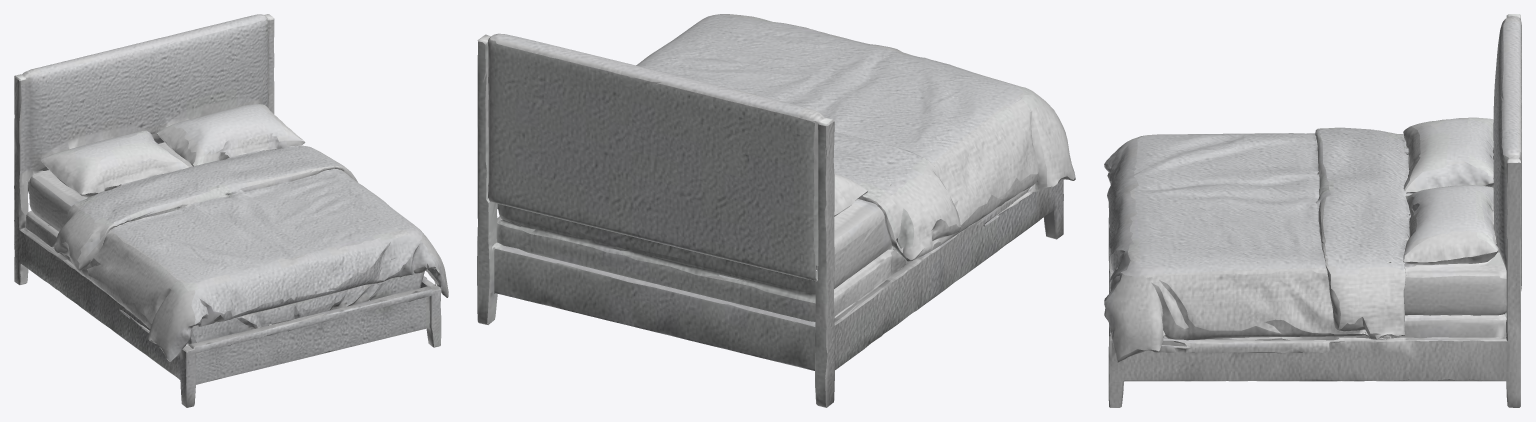
Rendered from L_BED_DOUBLE.japandi.glb.
3 renders of one model, left to right at view 1: azimuth 30°, elevation 25°; view 2: azimuth 150°, elevation 25°; view 3: azimuth 270°, elevation 25°, orthographic. The views are drawn at different scales.
Parts seen in each view (by area): view 1: geometry_0; view 2: geometry_0; view 3: geometry_0.
Boxes of the visible parts, x1=… form: geometry_0: x1=14, y1=14, x2=448, y2=407; geometry_0: x1=477, y1=14, x2=1075, y2=407; geometry_0: x1=1104, y1=14, x2=1521, y2=407.
Size of the model in its own units: 2.15 by 1.49 by 2.25.
1 material, 1 textured.
